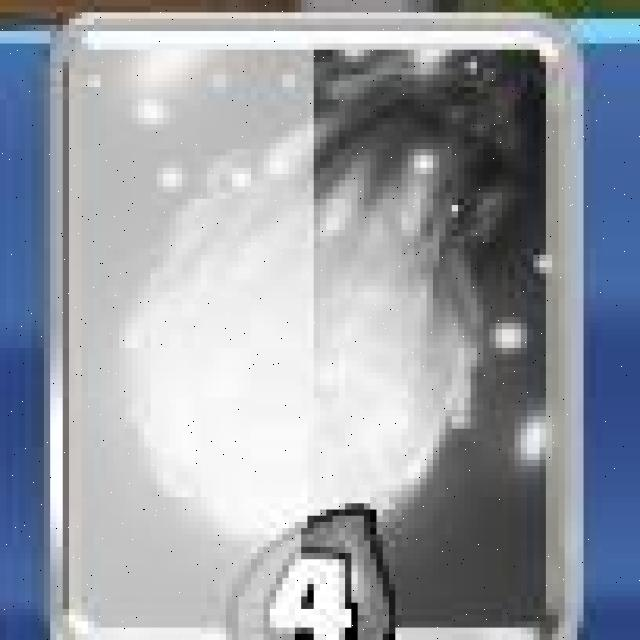Fireball: (51, 14, 580, 640)
